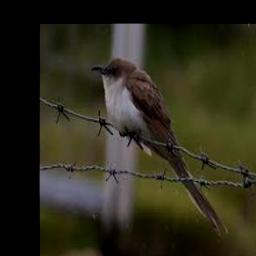Cuckoo: (91, 57, 229, 233)
